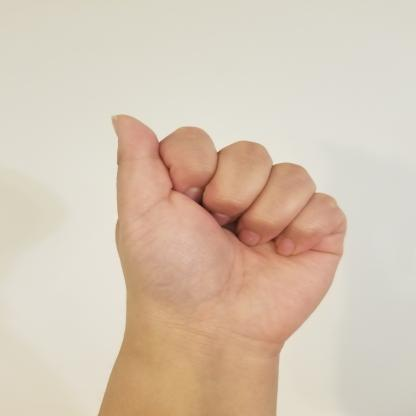A: (98, 106, 358, 363)
